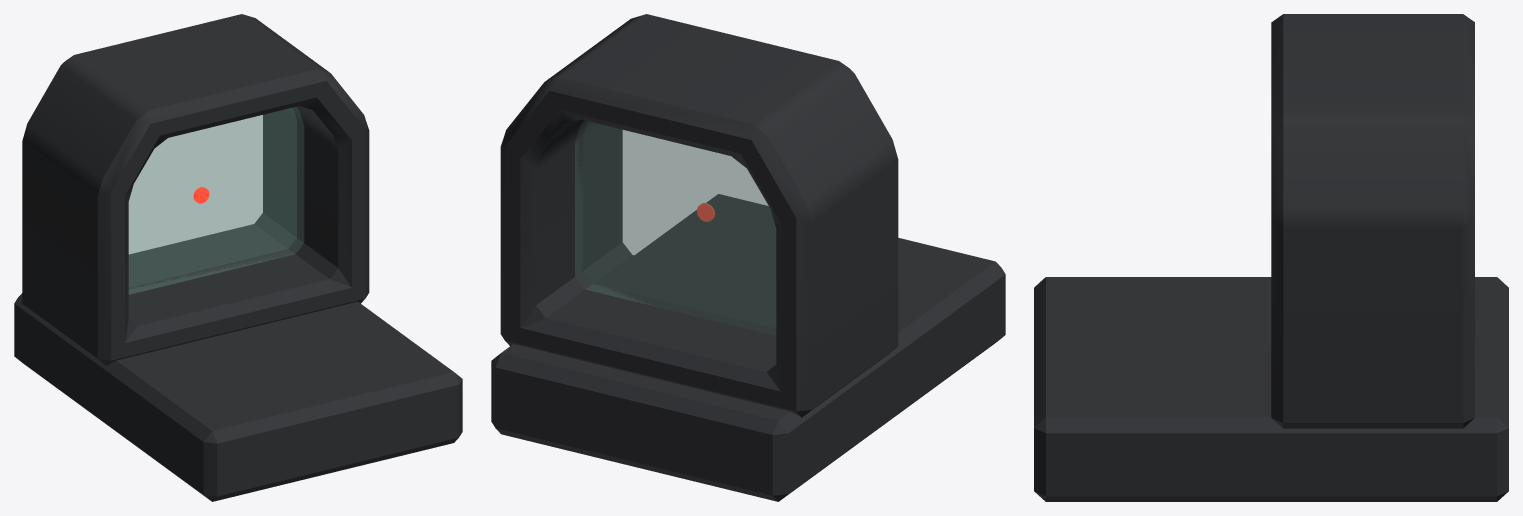
Rendered from mod_wren_reflex_sight.glb.
3 views of the same model, side by side, from view 1: azimuth 30°, elevation 25°; view 2: azimuth 150°, elevation 25°; view 3: azimuth 270°, elevation 25° (orthographic). The views are drawn at different scales.
Visible parts, largest first — view 1: ReflexSight, ReflexSightLens; view 2: ReflexSight, ReflexSightLens; view 3: ReflexSight.
Part boxes in pixels (x1,y1,x2,y2): ReflexSight: (14, 14, 462, 501); ReflexSightLens: (128, 107, 303, 294); ReflexSight: (491, 14, 1005, 501); ReflexSightLens: (575, 120, 776, 335); ReflexSight: (1034, 14, 1508, 501).
Bounding box in the file's own units: 0.022 × 0.024 × 0.028.
